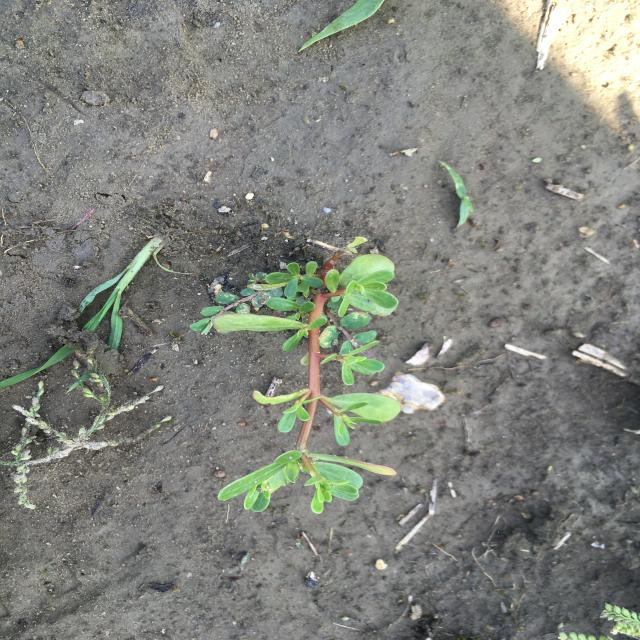Purslane: (211, 235, 407, 518)
